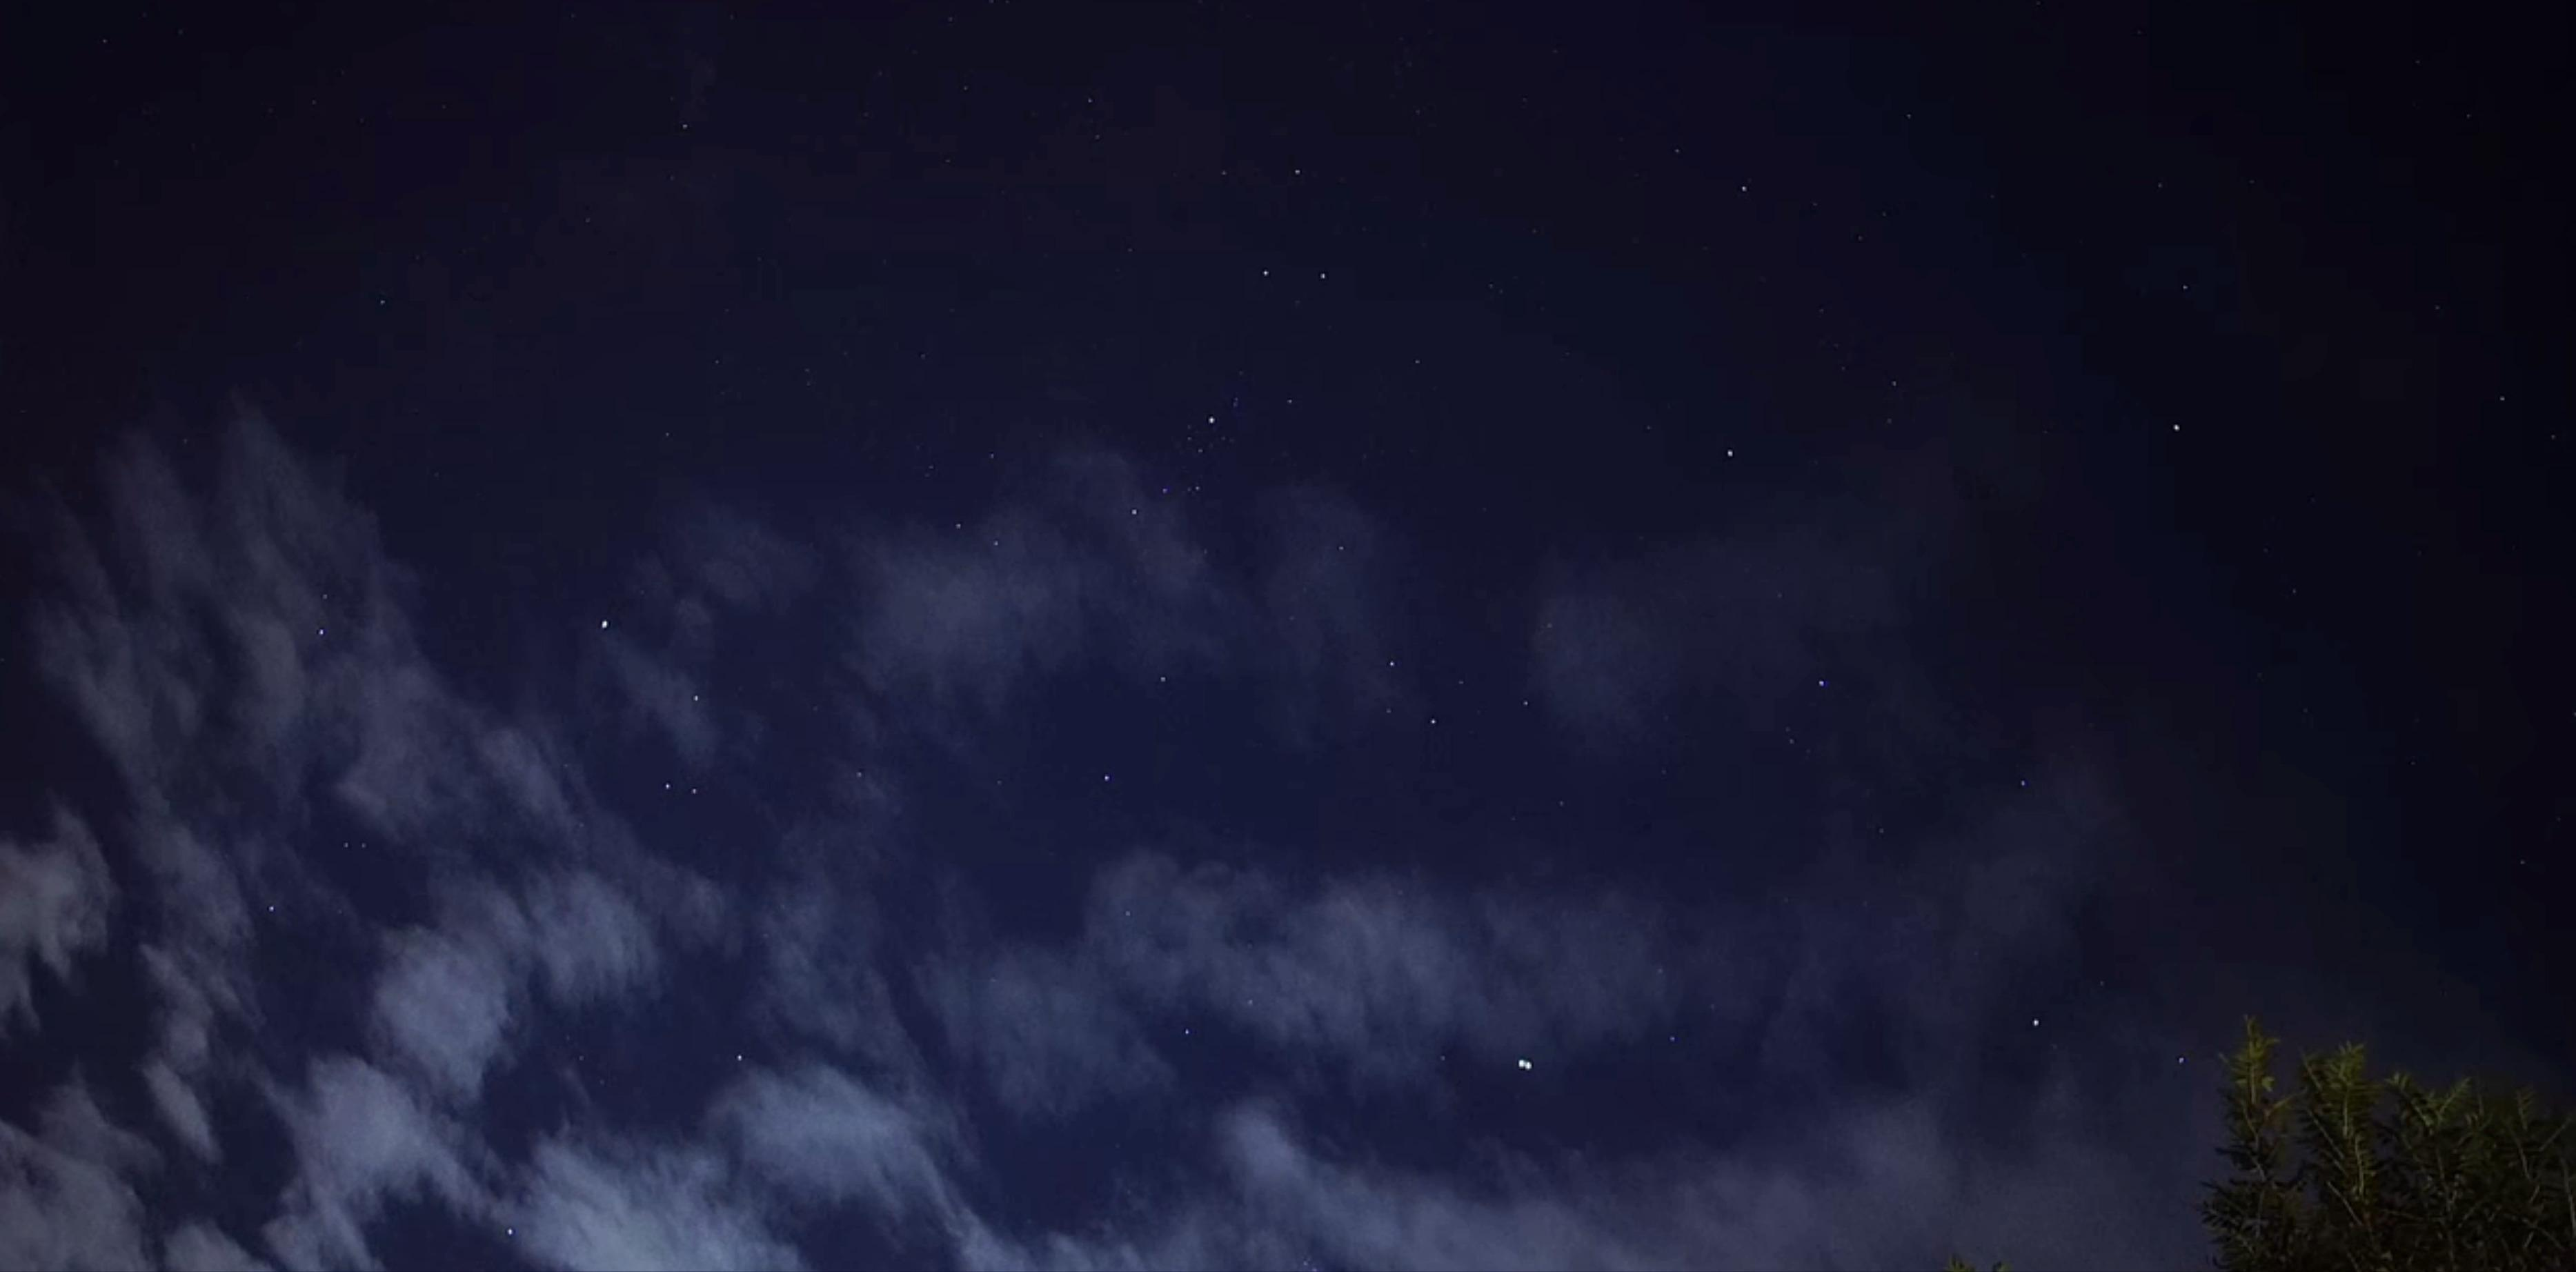Plane: (1503, 1040, 1544, 1086)
